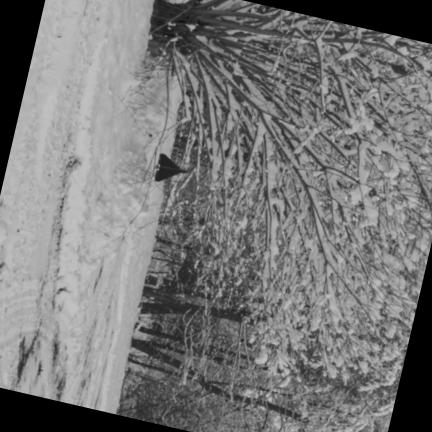Shahed: (153, 154, 186, 182)
